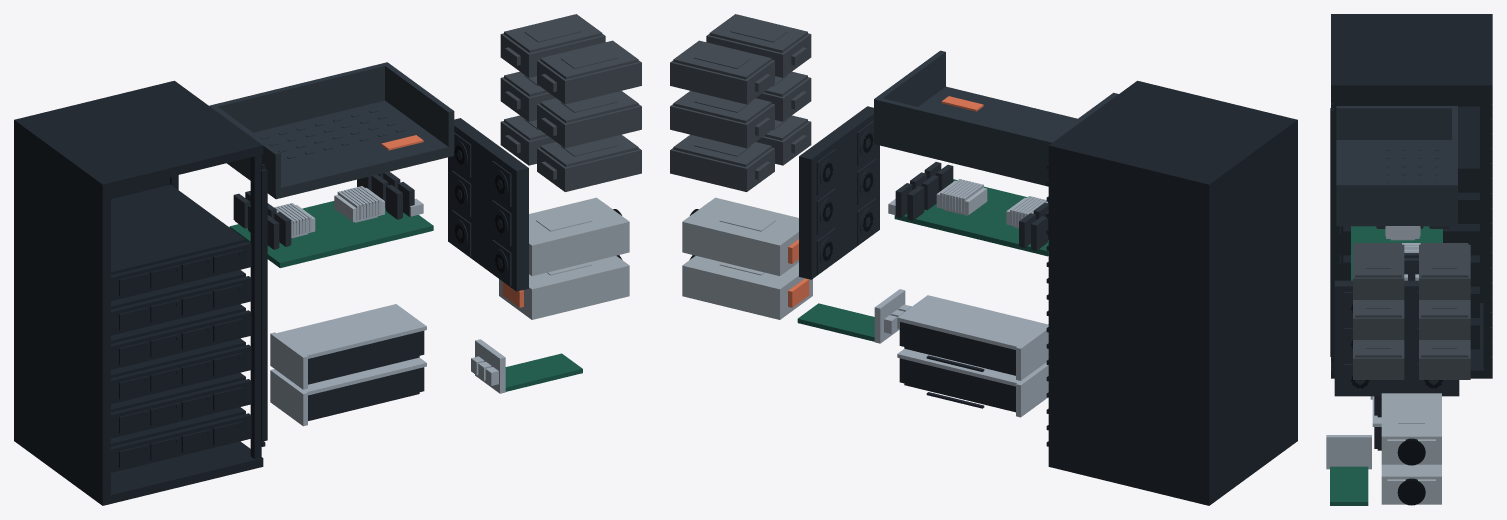
The model's file is cocometric-modern.glb.
3 renders of one model, left to right at view 1: azimuth 30°, elevation 25°; view 2: azimuth 150°, elevation 25°; view 3: azimuth 270°, elevation 25°, orthographic. The views are drawn at different scales.
Visible parts, largest first — view 1: Rack_Left_Side, Rack_Top, Exploded_Chassis_Base, Installed_Server_5, Fan_Wall, Exploded_Chassis_Back, PSU_0, Motherboard, Rack_Bottom, PSU_1, GPU_1_Backplate, Rack_Right_Rail_Front (+32 smaller); view 2: Rack_Back, Rack_Left_Side, Rack_Top, Exploded_Chassis_Back, Fan_Wall, PSU_0, PSU_1, Exploded_Chassis_Base, GPU_1_Backplate, Motherboard, GPU_0_Body, GPU_1_Body (+17 smaller); view 3: Rack_Top, Exploded_Chassis_Base, Exploded_Chassis_Right, Exploded_Chassis_Left, Fan_Wall, Rack_Left_Side, PSU_0, Installed_Server_5, Rack_Back, NIC_PCB, NIC_Bracket, Drive_0_0 (+41 smaller).
Boxes of the visible parts, x1=… form: Rack_Left_Side: x1=14, y1=118, x2=110, y2=505; Rack_Top: x1=14, y1=80, x2=263, y2=192; Exploded_Chassis_Base: x1=227, y1=100, x2=453, y2=199; Installed_Server_5: x1=111, y1=184, x2=245, y2=274; Fan_Wall: x1=448, y1=118, x2=528, y2=291; Exploded_Chassis_Back: x1=210, y1=62, x2=389, y2=132; PSU_0: x1=529, y1=197, x2=629, y2=275; Motherboard: x1=229, y1=201, x2=433, y2=267; Rack_Bottom: x1=14, y1=438, x2=263, y2=505; PSU_1: x1=499, y1=256, x2=629, y2=319; GPU_1_Backplate: x1=274, y1=304, x2=426, y2=358; Rack_Right_Rail_Front: x1=250, y1=154, x2=261, y2=459; Rack_Back: x1=1048, y1=153, x2=1212, y2=497; Rack_Left_Side: x1=1201, y1=118, x2=1297, y2=505; Rack_Top: x1=1048, y1=80, x2=1297, y2=192; Exploded_Chassis_Back: x1=874, y1=98, x2=1051, y2=181; Fan_Wall: x1=799, y1=106, x2=879, y2=279; PSU_0: x1=682, y1=197, x2=798, y2=275; PSU_1: x1=682, y1=256, x2=812, y2=319; Exploded_Chassis_Base: x1=874, y1=86, x2=1077, y2=186; GPU_1_Backplate: x1=897, y1=295, x2=1048, y2=349; Motherboard: x1=894, y1=179, x2=1048, y2=256; GPU_0_Body: x1=899, y1=358, x2=1015, y2=410; GPU_1_Body: x1=899, y1=322, x2=1015, y2=373; Rack_Top: x1=1331, y1=14, x2=1492, y2=93; Exploded_Chassis_Base: x1=1336, y1=140, x2=1457, y2=226; Exploded_Chassis_Right: x1=1336, y1=183, x2=1457, y2=221; Exploded_Chassis_Left: x1=1336, y1=106, x2=1457, y2=139; Fan_Wall: x1=1334, y1=280, x2=1459, y2=396; Rack_Left_Side: x1=1331, y1=14, x2=1492, y2=302; PSU_0: x1=1381, y1=393, x2=1441, y2=464; Installed_Server_5: x1=1458, y1=106, x2=1479, y2=192; Rack_Back: x1=1486, y1=92, x2=1492, y2=371; NIC_PCB: x1=1330, y1=466, x2=1368, y2=505; NIC_Bracket: x1=1326, y1=435, x2=1371, y2=469; Drive_0_0: x1=1419, y1=244, x2=1470, y2=299.
Bounding box in the file's own units: 8.02 × 4.4 × 2.26.
